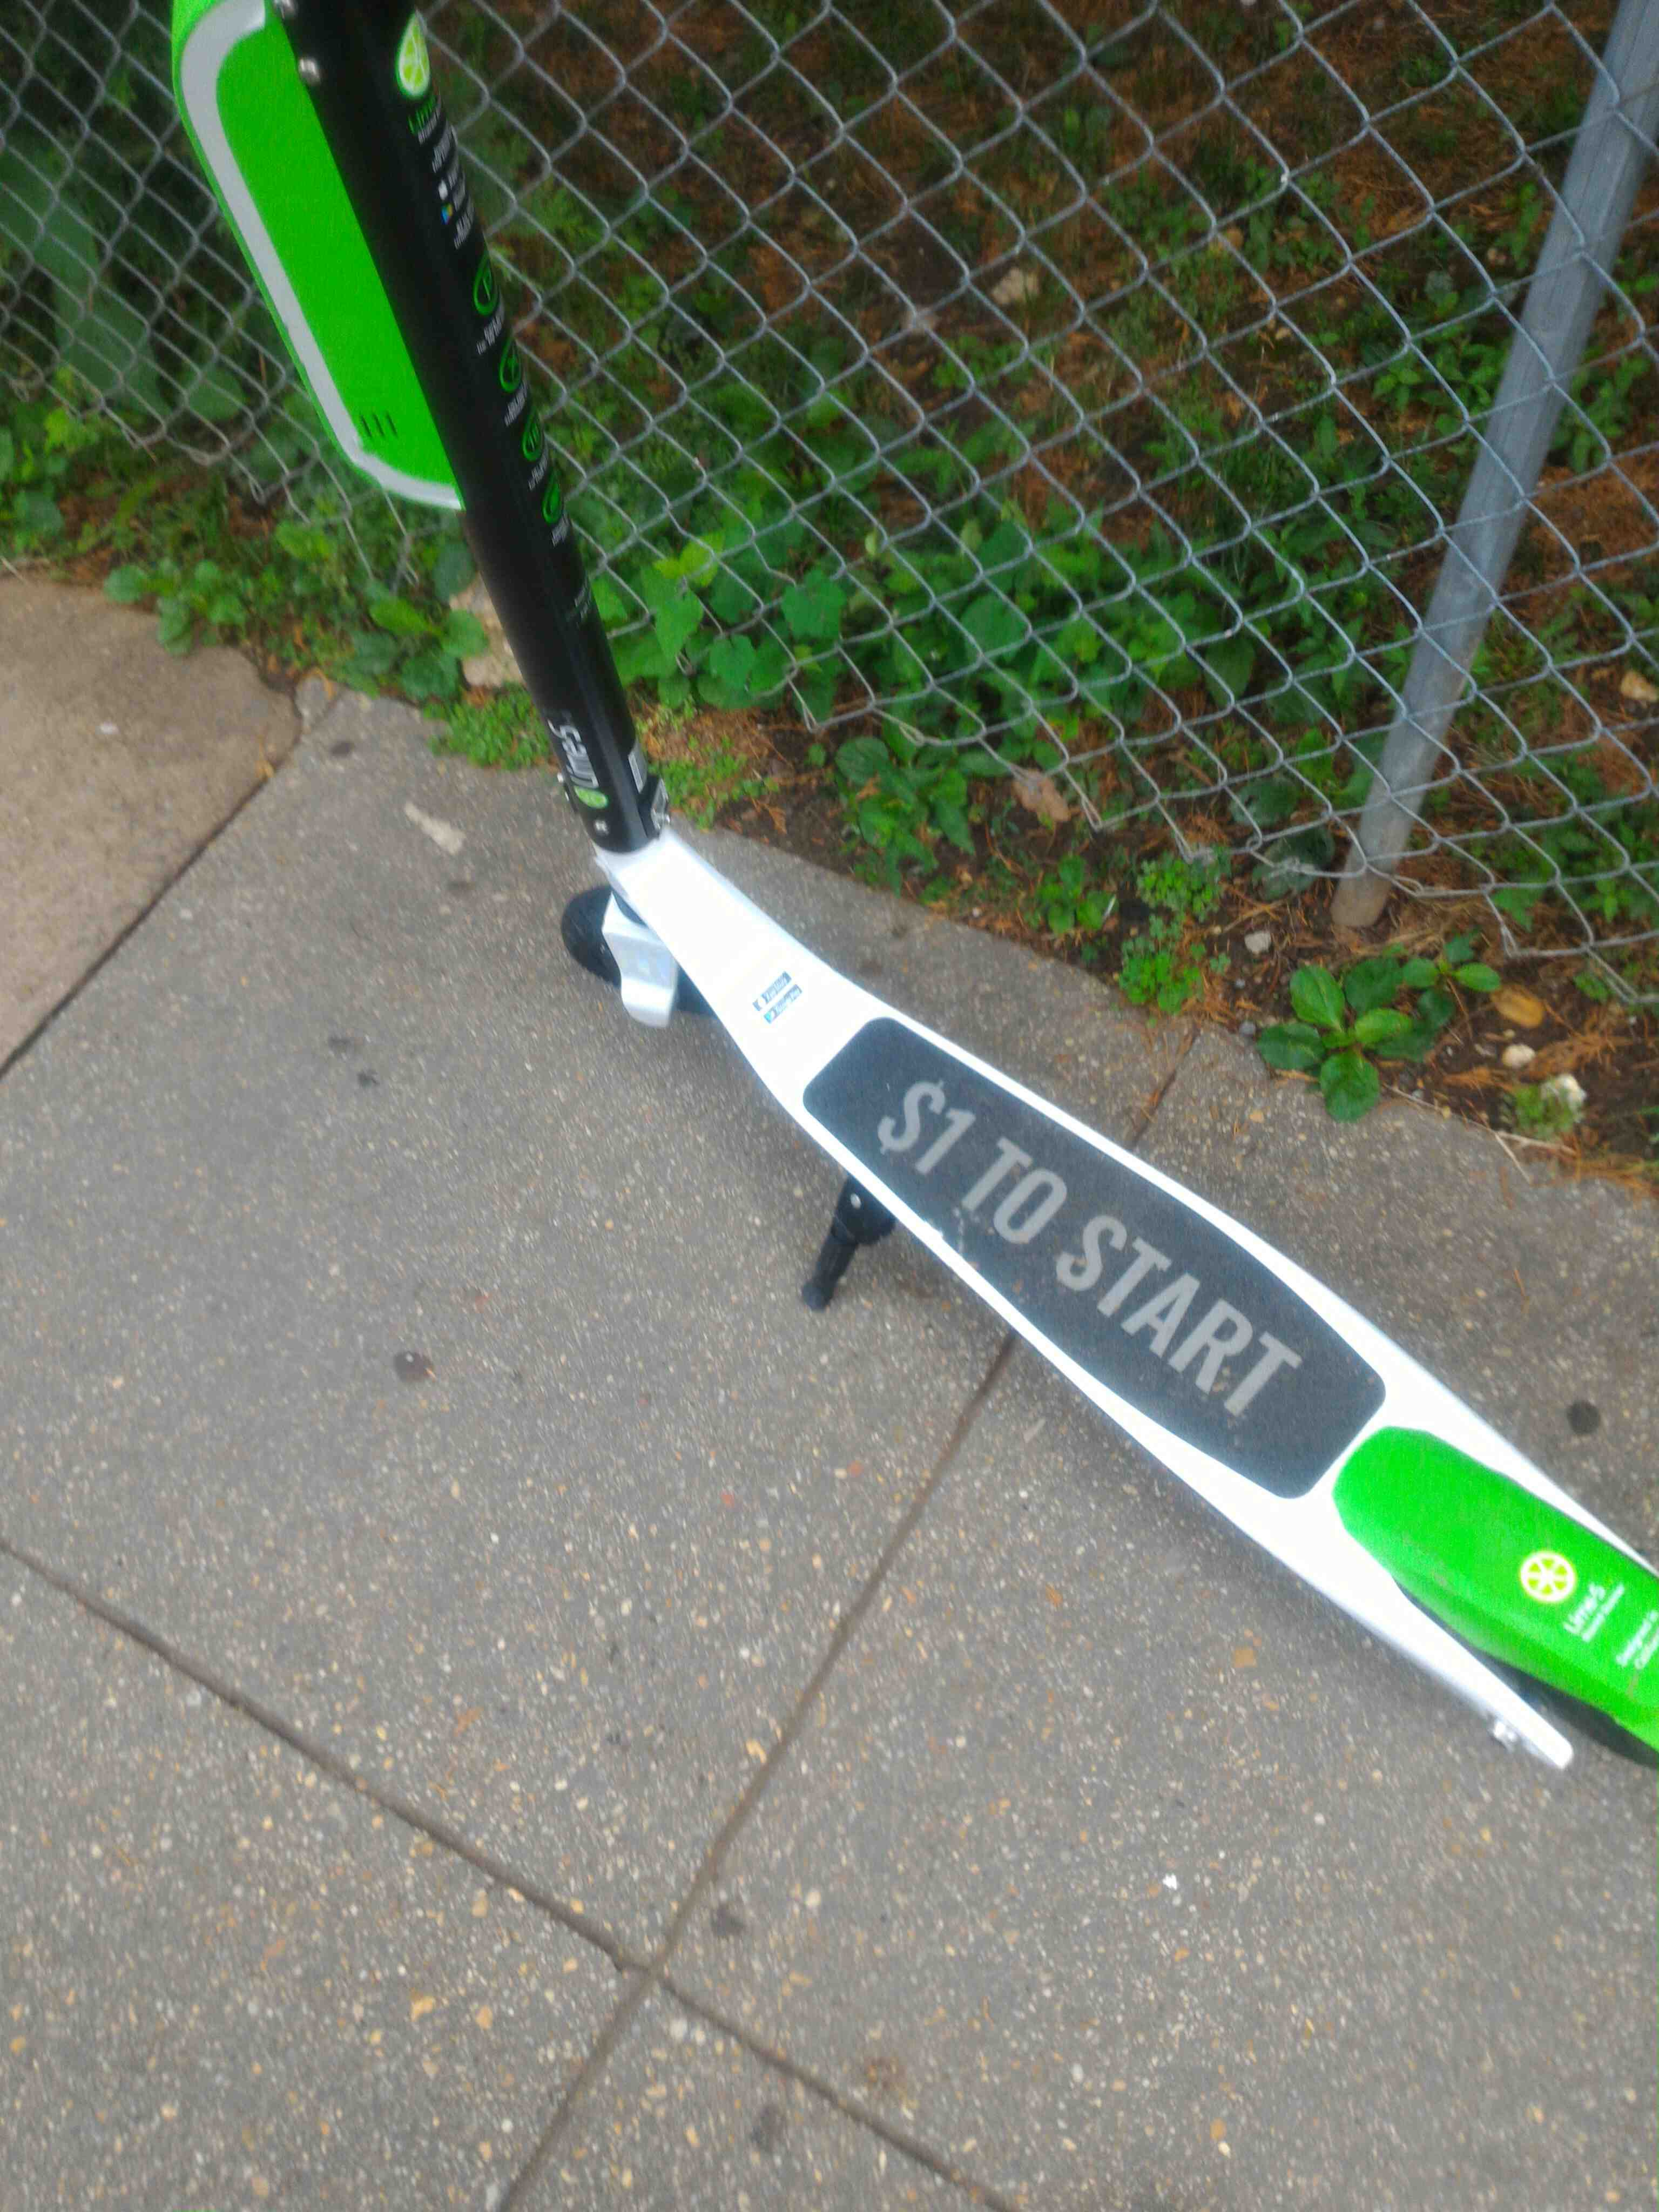scooter: (24, 49, 1631, 1865)
